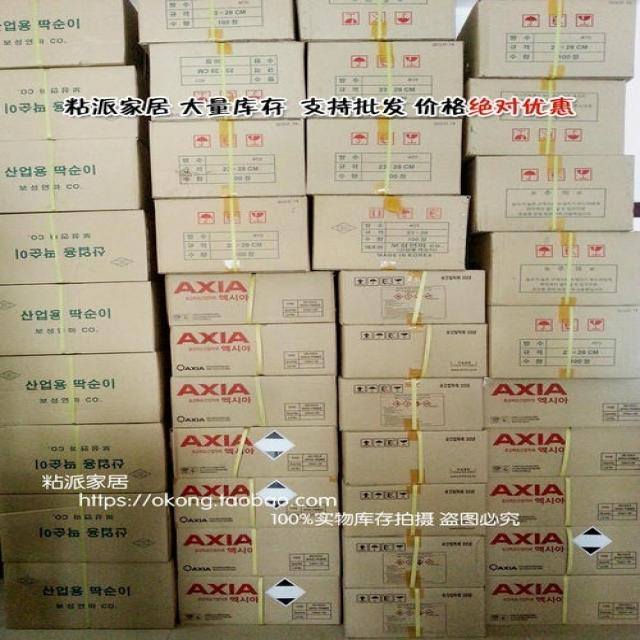box: (452, 1, 632, 79), (460, 154, 638, 232), (467, 232, 639, 309), (0, 492, 174, 565), (0, 422, 171, 496), (464, 79, 626, 157), (303, 118, 463, 196), (310, 43, 467, 122), (0, 350, 167, 424), (151, 198, 313, 274), (0, 280, 164, 355), (150, 121, 309, 198), (150, 43, 304, 122), (0, 561, 176, 630), (313, 196, 469, 271), (0, 209, 151, 285), (0, 136, 149, 213), (487, 306, 639, 379), (0, 64, 143, 137), (0, 0, 143, 70), (162, 272, 340, 327), (167, 322, 340, 378), (169, 426, 335, 482), (170, 376, 335, 429), (173, 525, 342, 576), (170, 478, 342, 528), (339, 429, 488, 485), (483, 573, 639, 626), (483, 476, 639, 529), (483, 380, 639, 431), (338, 483, 485, 537), (484, 428, 639, 479), (176, 578, 343, 625), (342, 271, 488, 324), (341, 324, 487, 377), (483, 526, 639, 575), (339, 378, 485, 430), (343, 537, 484, 588), (340, 586, 484, 635), (140, 1, 296, 45), (295, 1, 456, 41)
